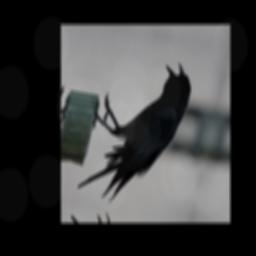Crow: (74, 50, 197, 213)
